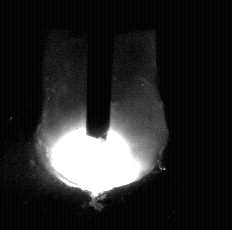arame: (88, 0, 112, 138)
poca: (35, 0, 168, 230)
